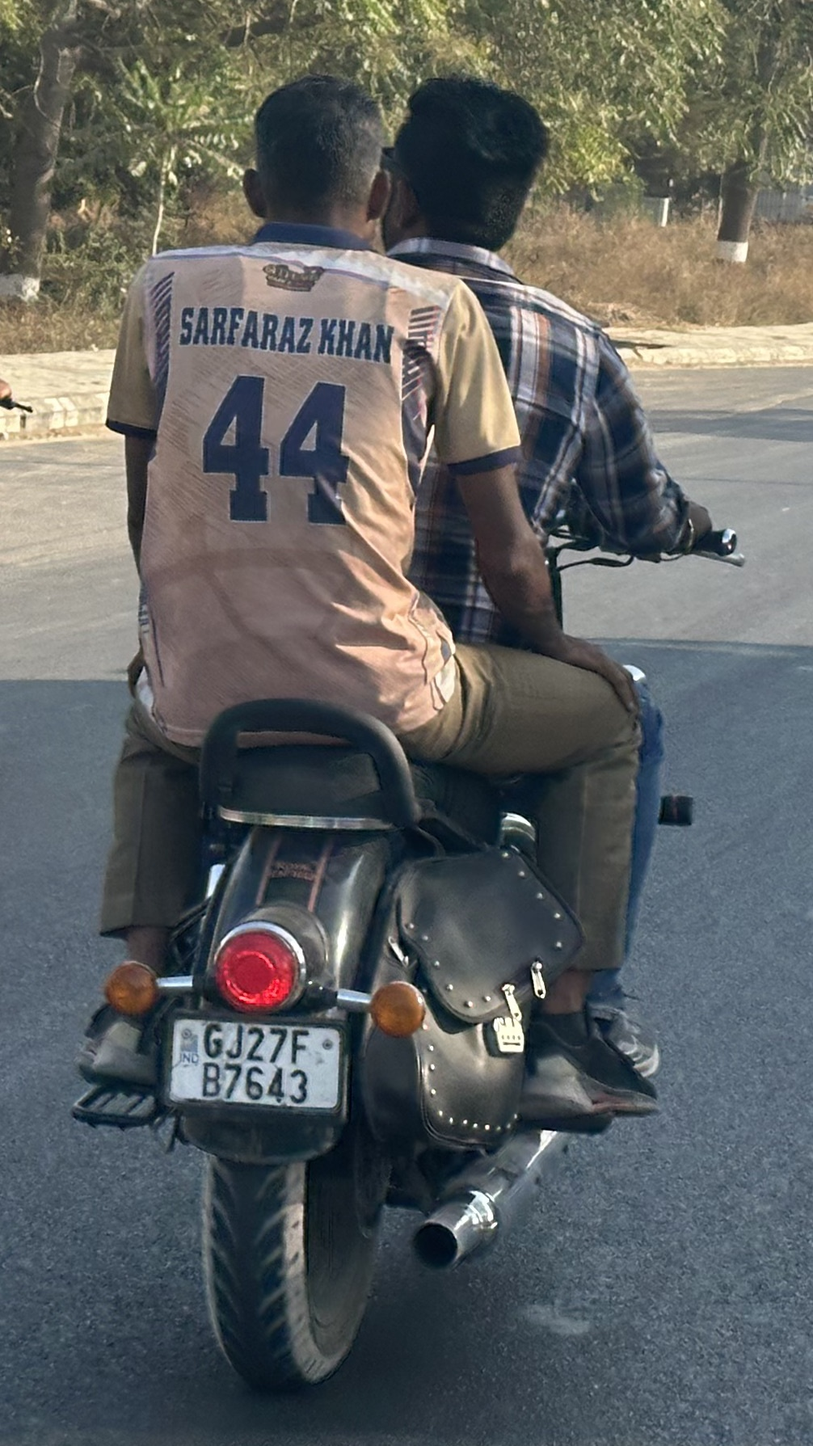BikeWithRider: (56, 48, 756, 1415)
NoHelmet: (364, 60, 567, 272), (223, 61, 403, 256)
